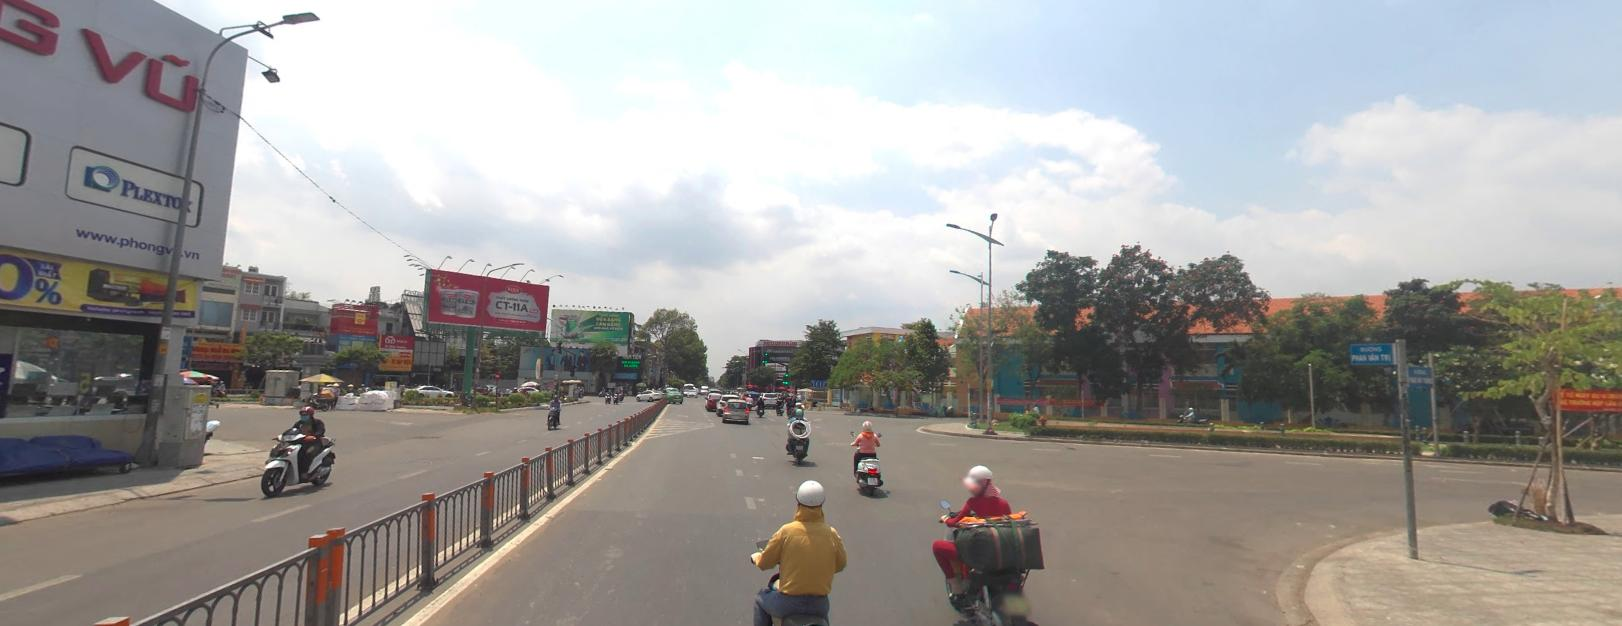Cam nguoc chieu: (494, 369, 498, 378)
